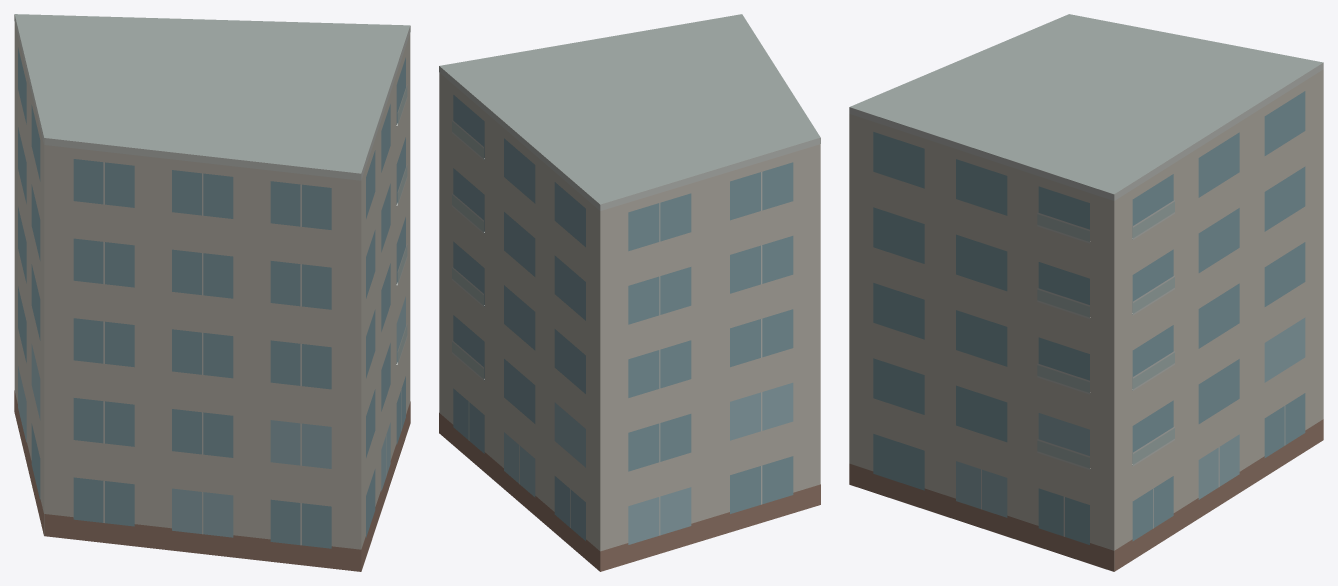
The model's file is survey-upis-32797486.glb.
3 views of the same model, side by side, from view 1: azimuth 30°, elevation 25°; view 2: azimuth 150°, elevation 25°; view 3: azimuth 270°, elevation 25° (orthographic). The views are drawn at different scales.
Visible parts, largest first — view 1: survey-upis-32797486.tmp; view 2: survey-upis-32797486.tmp; view 3: survey-upis-32797486.tmp.
Boxes of the visible parts, <box> form: survey-upis-32797486.tmp: <box>14,14,410,571</box>; survey-upis-32797486.tmp: <box>439,14,820,571</box>; survey-upis-32797486.tmp: <box>849,14,1323,571</box>.
Size of the model in its own units: 14.1 by 13.75 by 15.67.
